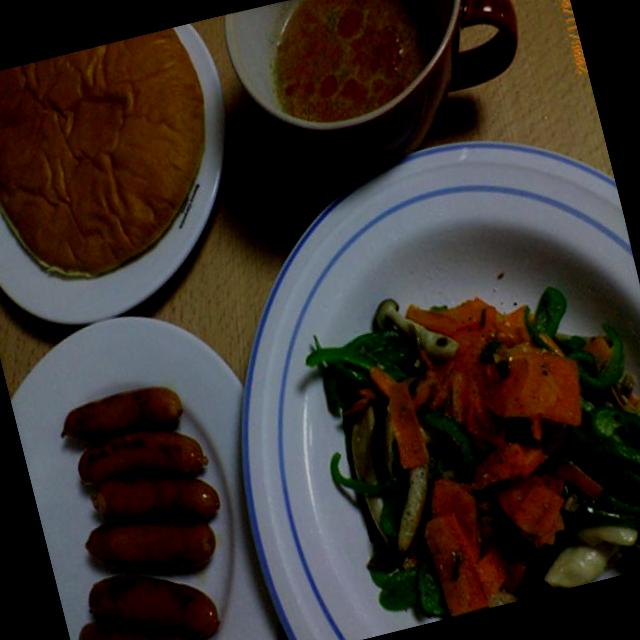Sausage: (28, 365, 260, 640)
